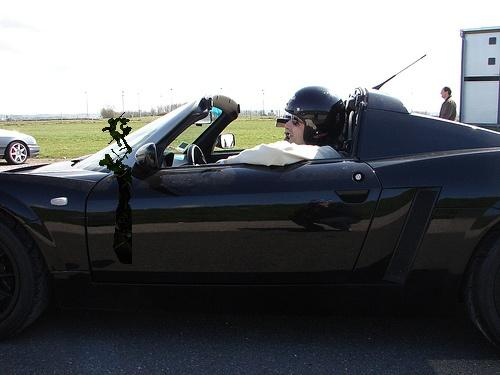tampered: (100, 113, 132, 264)
